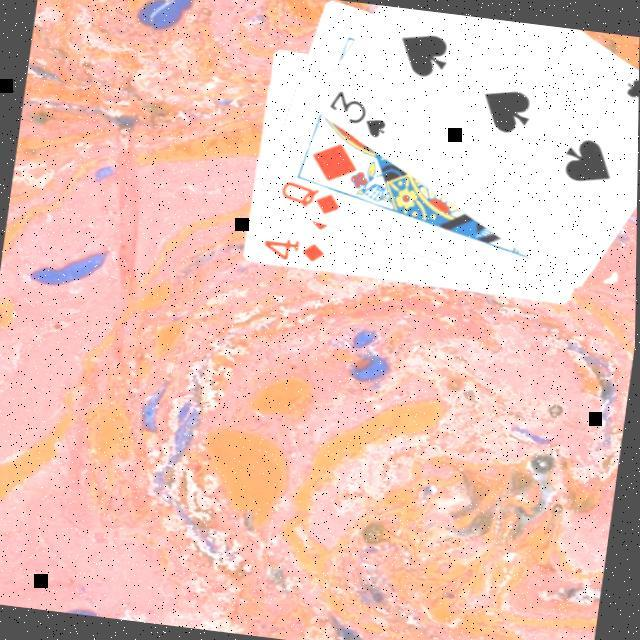3S: (320, 84, 392, 142), (616, 71, 640, 127)
4D: (256, 232, 328, 266)
QD: (272, 176, 346, 218)
